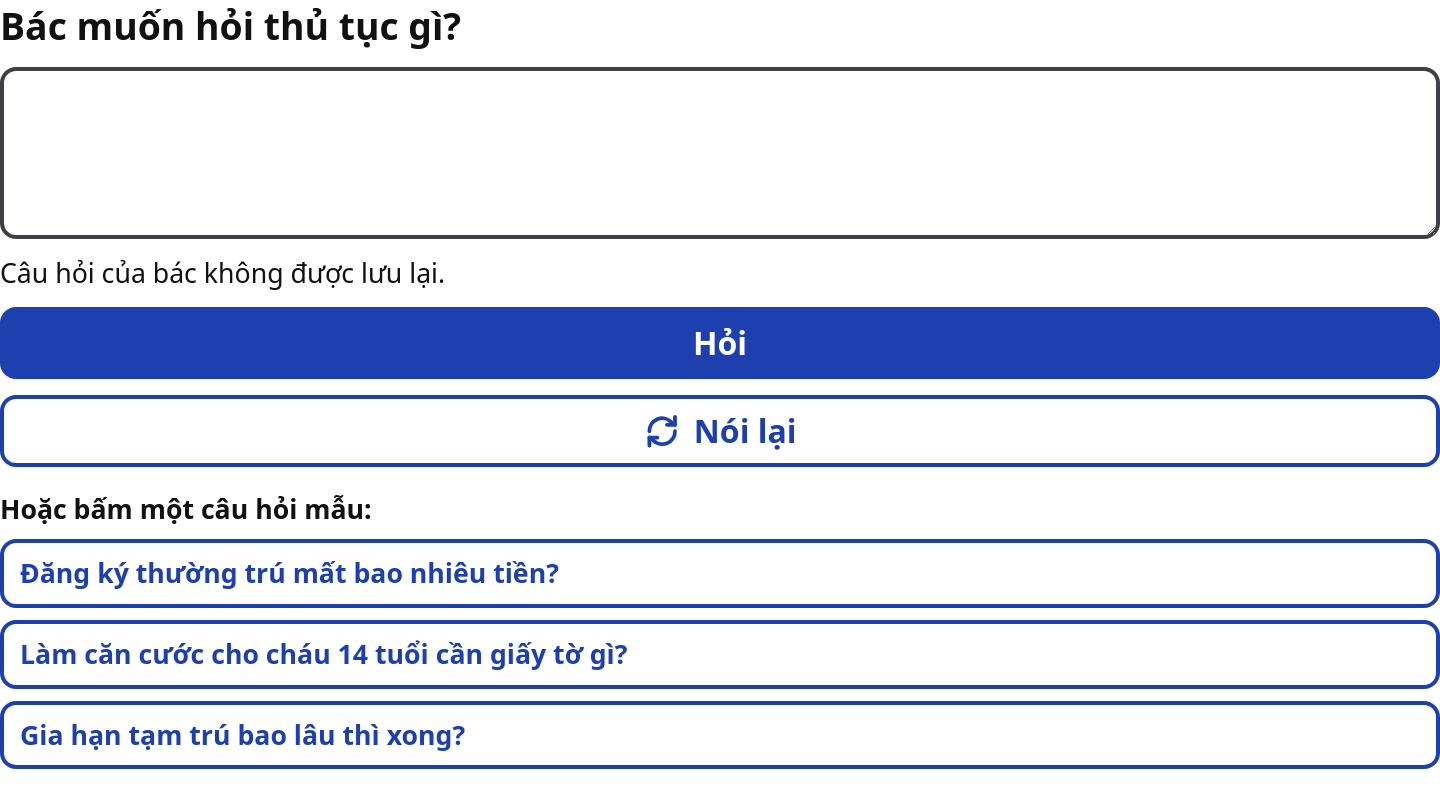
Test: AskScreen — hỏi và trả lời › bấm câu mẫu thì gửi luôn câu đó
This screenshot has width=1440, height=810.
What coordinates should you click on to do the following:
click the button with test id "example-chip-2"
I would click on:
 (324, 654)
Its box is [0,620,1439,689].
(page scrolled)
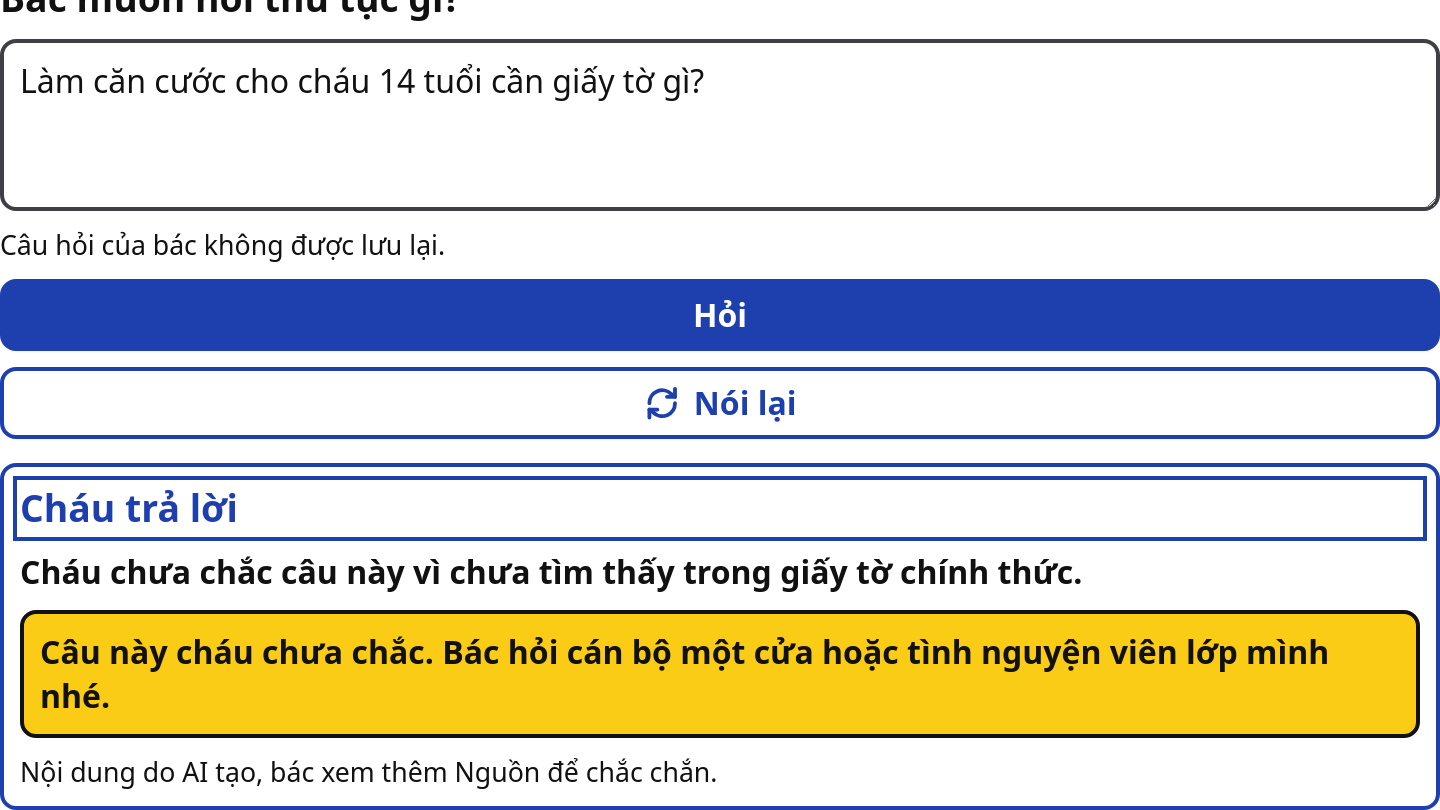
Check: the element with test id "answer" is shown, box [0,463,1439,809]
Check: the text box with test id "ask-input" holds "Làm căn cước cho cháu 14 tuổi cần giấy tờ gì?", box [0,39,1439,211]
